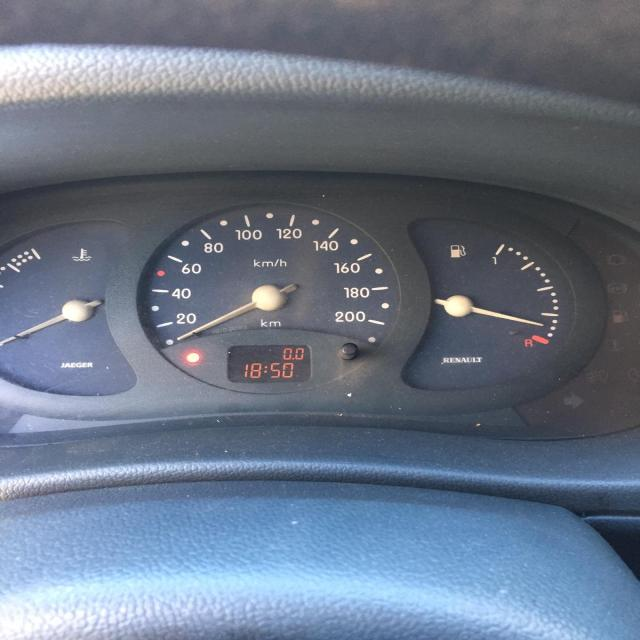odometer: (225, 343, 313, 384)
